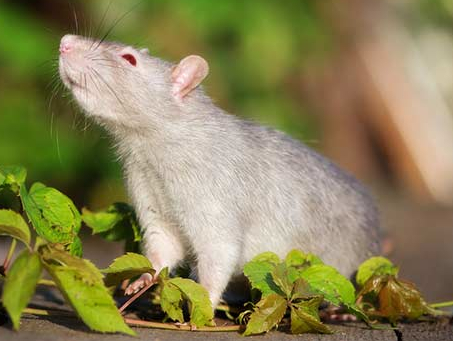rat: (50, 1, 283, 179)
